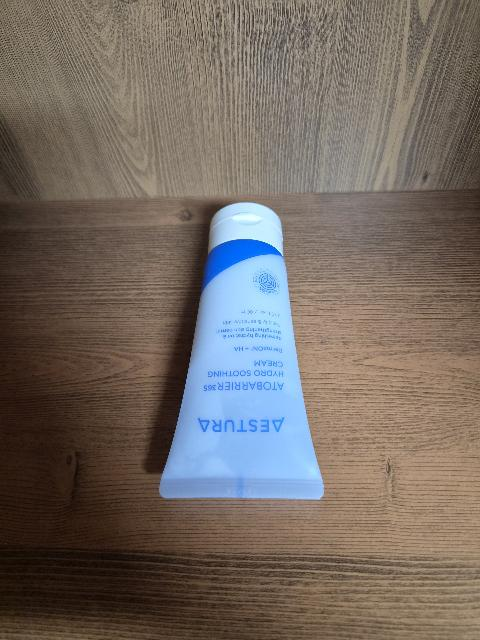handcream: (159, 202, 324, 500)
